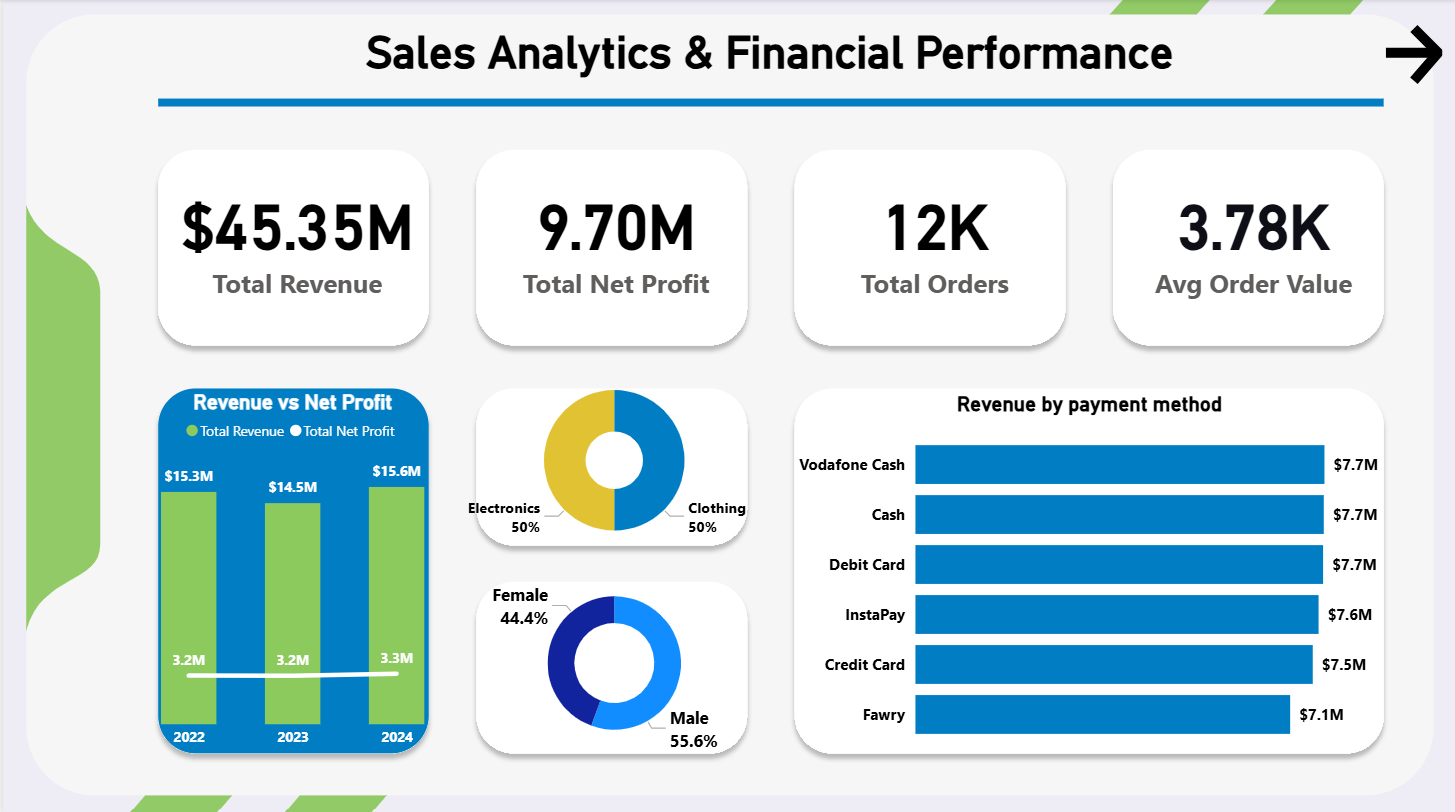

The dashboard page shown, as its layout file describes it:
{"tool":"powerbi","page":{"name":"Overview","canvas":[1280,720],"ordinal":0},"visuals":[{"type":"group","id":"g1","title":"Group 1","box":[141.7,136.7,1076.2,146.4],"z":0},{"type":"card","fields":{"Values":["Key_Measures.Total Revenue"]},"box":[141.7,136.7,234.5,146.4],"z":0,"group":"g1"},{"type":"card","fields":{"Values":["Key_Measures.Total Net Profit"]},"box":[422.3,136.7,234.5,146.4],"z":1000,"group":"g1"},{"type":"lineStackedColumnComboChart","title":"Revenue vs Net Profit","fields":{"Category":["date.year"],"Y":["Key_Measures.Total Revenue"],"Y2":["Key_Measures.Total Net Profit"]},"box":[134.5,344,241.7,323.8],"z":1000},{"type":"card","fields":{"Values":["Key_Measures.Avg Order Value"]},"box":[983.4,136.7,234.5,146.4],"z":2000,"group":"g1"},{"type":"donutChart","title":"Revenue by category","fields":{"Y":["Key_Measures.Total Revenue"],"Category":["products.category"]},"box":[406.8,323.3,261.7,164.9],"z":2000},{"type":"card","fields":{"Values":["Key_Measures.Total Orders"]},"box":[702.8,136.7,234.5,146.4],"z":3000,"group":"g1"},{"type":"clusteredBarChart","title":"Revenue by payment method","fields":{"Y":["Key_Measures.Total Revenue"],"Category":["All_Years_Orders.payment_method"]},"box":[694.1,345.2,523.8,325],"z":3000},{"type":"donutChart","fields":{"Y":["Count(customers.customer_id)"],"Category":["customers.gender"]},"box":[419,498.8,238.1,170.2],"z":4000},{"type":"actionButton","box":[1199.6,18.7,80.3,60.5],"z":5000},{"type":"textbox","title":"Sales Analytics & Financial Performance","box":[311,24,726.5,49.2],"z":6000}]}

Visuals, with their boxes in screenshot pixels (x1, y1, x2, y2), scaled from the page's 1280x720 canvas onto the 1455x812 screenshot:
"Group 1" group: crop(161, 154, 1384, 319)
card - Key_Measures.Total Revenue: crop(161, 154, 428, 319)
card - Key_Measures.Total Net Profit: crop(480, 154, 747, 319)
"Revenue vs Net Profit" lineStackedColumnComboChart: crop(153, 388, 428, 753)
card - Key_Measures.Avg Order Value: crop(1118, 154, 1384, 319)
"Revenue by category" donutChart: crop(462, 365, 760, 551)
card - Key_Measures.Total Orders: crop(799, 154, 1065, 319)
"Revenue by payment method" clusteredBarChart: crop(789, 389, 1384, 756)
donutChart - Count(customers.customer_id) x customers.gender: crop(476, 563, 747, 754)
actionButton: crop(1364, 21, 1454, 89)
"Sales Analytics & Financial Performance" textbox: crop(354, 27, 1179, 83)
